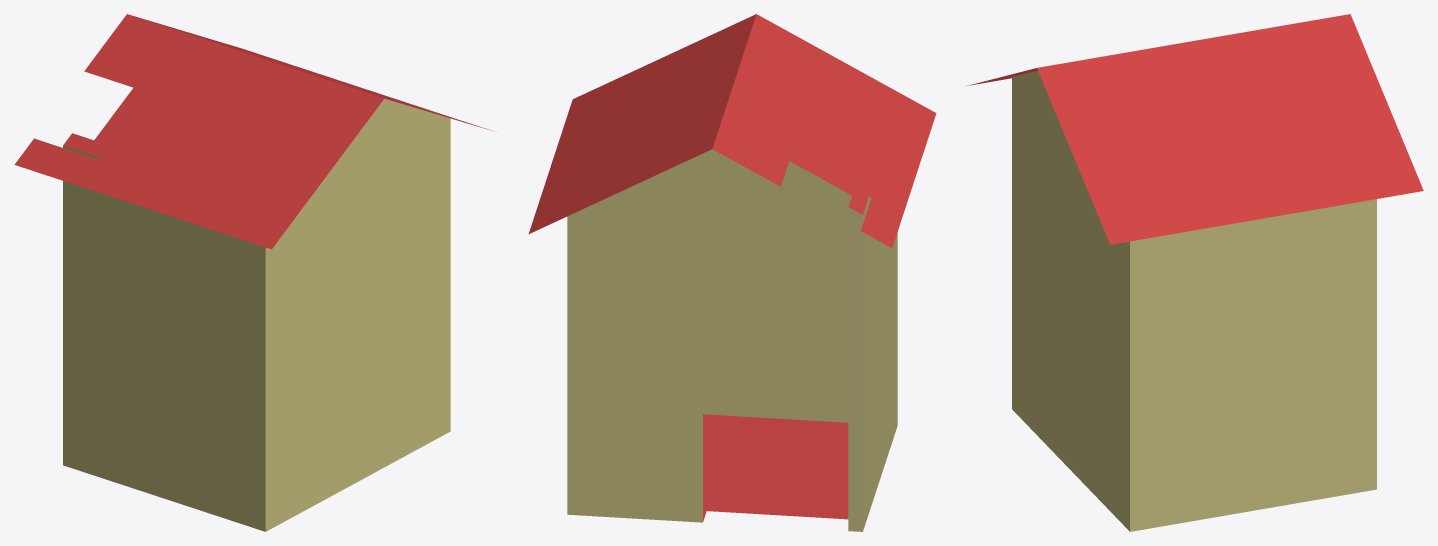
3 views of the same model, side by side, from view 1: azimuth 30°, elevation 25°; view 2: azimuth 150°, elevation 25°; view 3: azimuth 270°, elevation 25° (orthographic). The views are drawn at different scales.
Size of the model in its own units: 13.42 by 12.71 by 12.46.
